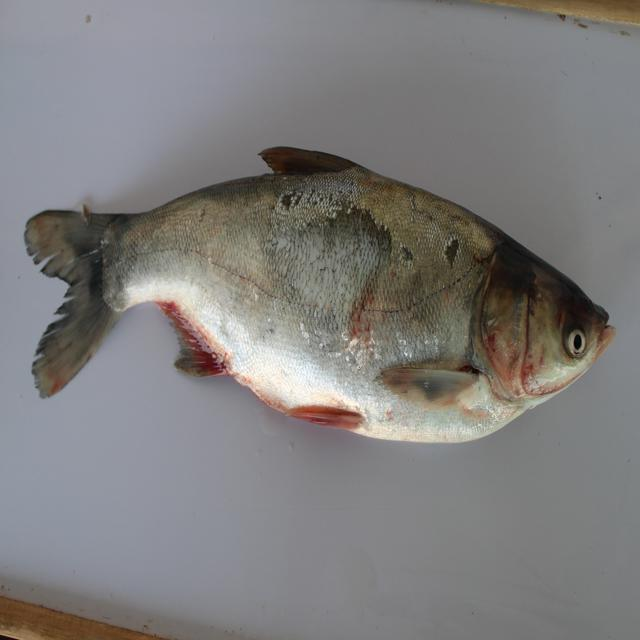SilverCarp: (15, 173, 616, 441)
